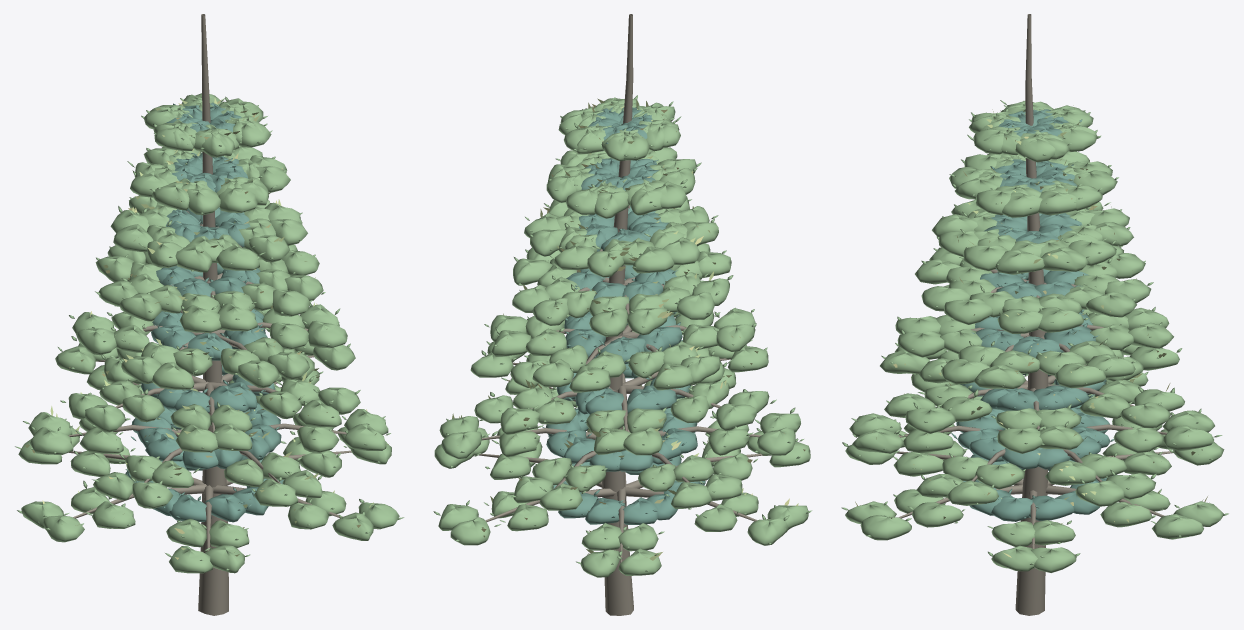
The model's file is fir_dense.glb.
3 renders of one model, left to right at view 1: azimuth 30°, elevation 25°; view 2: azimuth 150°, elevation 25°; view 3: azimuth 270°, elevation 25°, orthographic.
Parts seen in each view (by area): view 1: fir_dense; view 2: fir_dense; view 3: fir_dense.
Boxes of the visible parts, x1,y1,x2,y2 form: fir_dense: [15, 14, 404, 615]; fir_dense: [433, 14, 812, 615]; fir_dense: [841, 14, 1228, 615].
Bounding box in the file's own units: 5.96 × 9.61 × 5.74.
